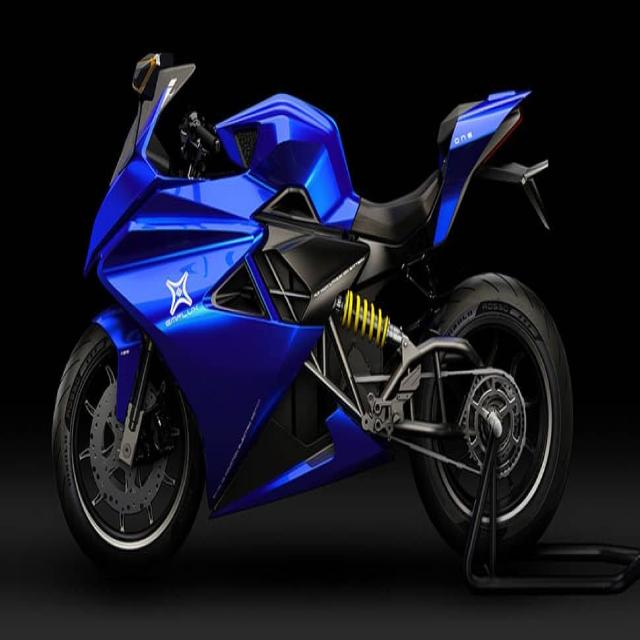motorcycle: (52, 56, 572, 567)
